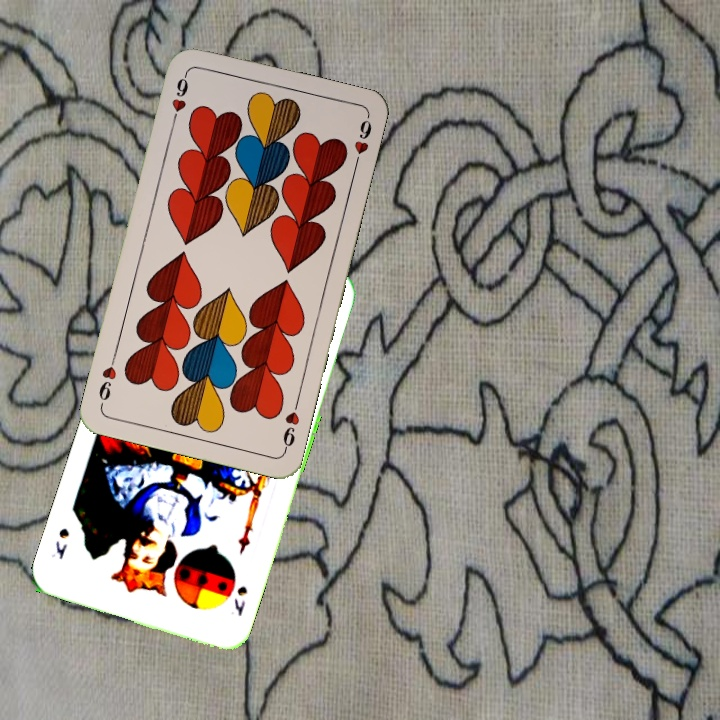H9: (278, 396, 302, 454), (168, 69, 191, 127)
SK: (230, 582, 250, 619)
